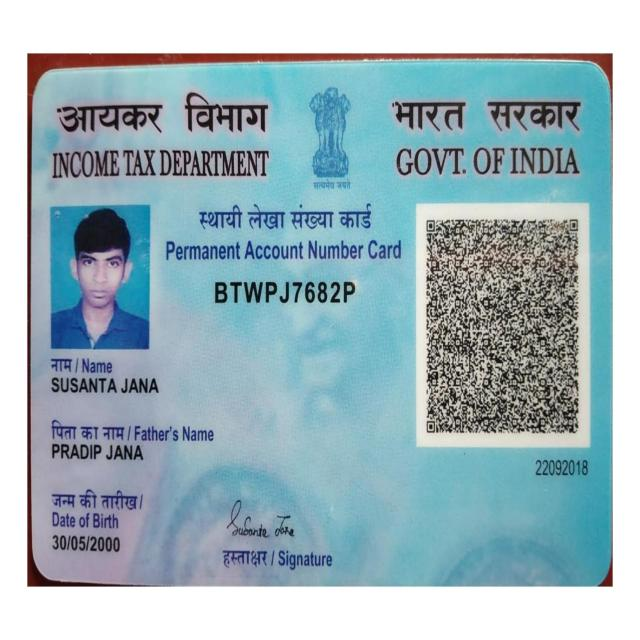pan_card: (38, 78, 603, 568)
